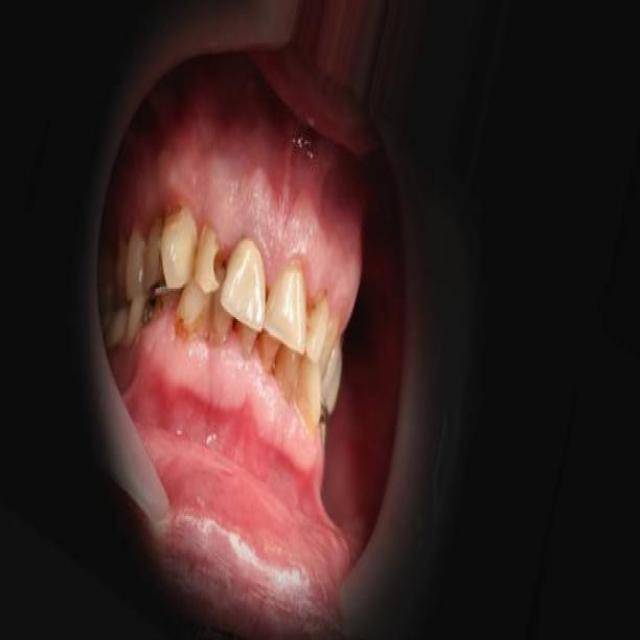caries: (206, 232, 239, 292), (137, 283, 169, 332), (162, 188, 192, 230), (175, 309, 195, 345)
